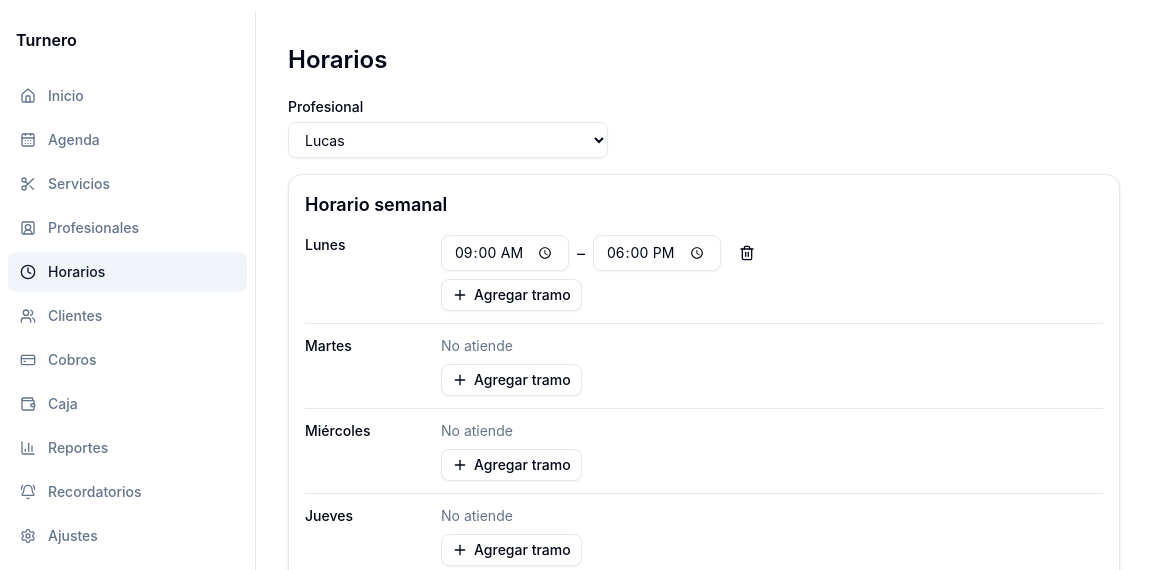
schedules page: weekly hours › adds a block to another day and saves the whole week
Click the button "Agregar tramo" below "Martes" at {"x": 511, "y": 380}, box [441,364,582,396]
(page scrolled)
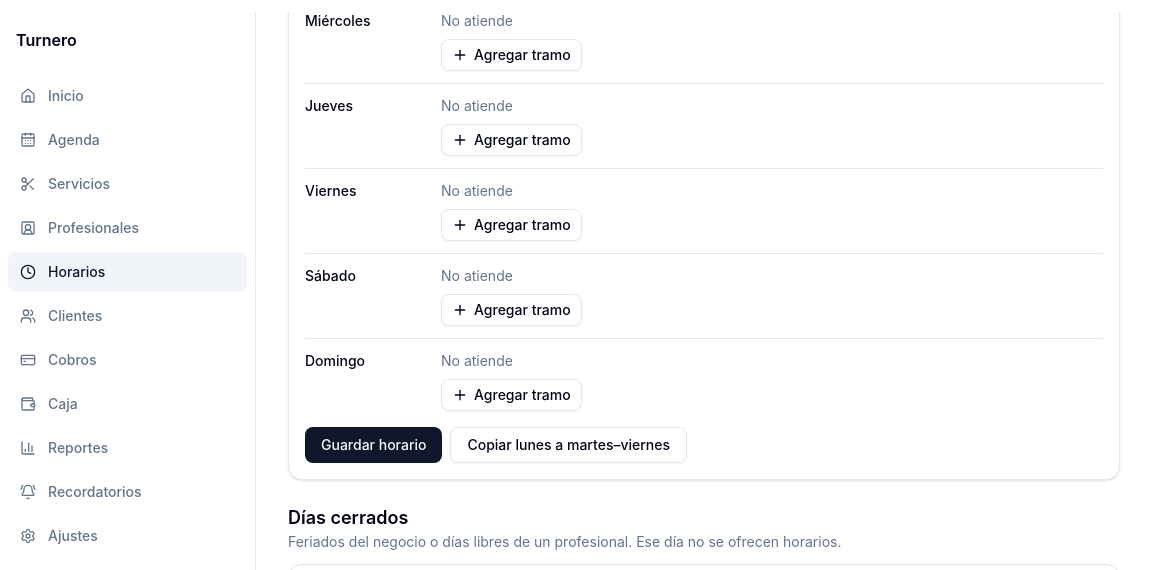
Click the button "Guardar horario" at {"x": 374, "y": 445}, box [305,427,442,463]
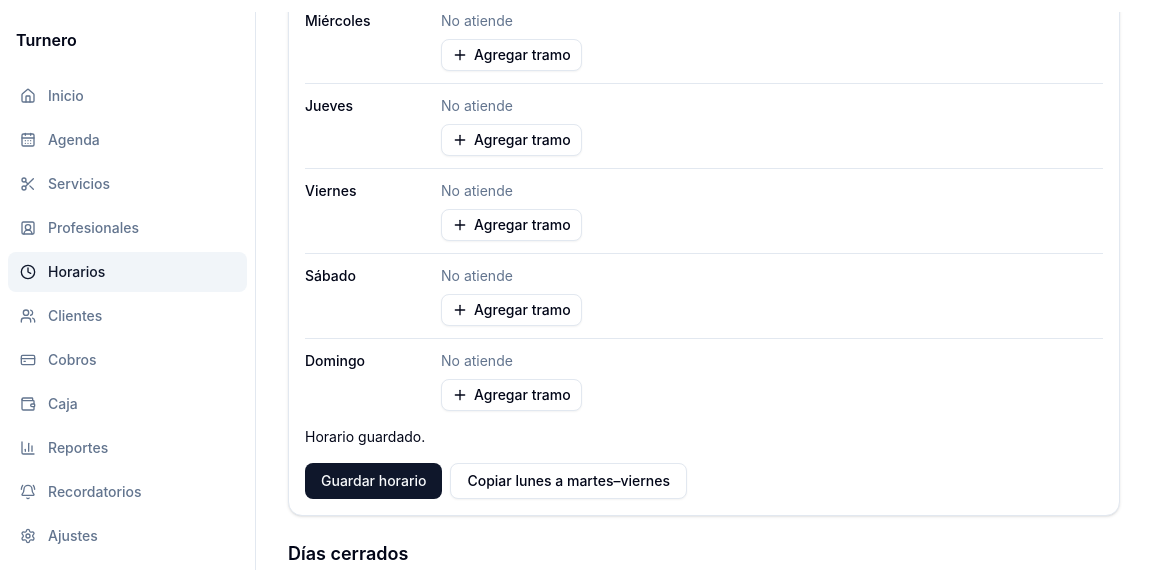
Check: the text "Horario guardado." is shown, box [305,428,425,445]
